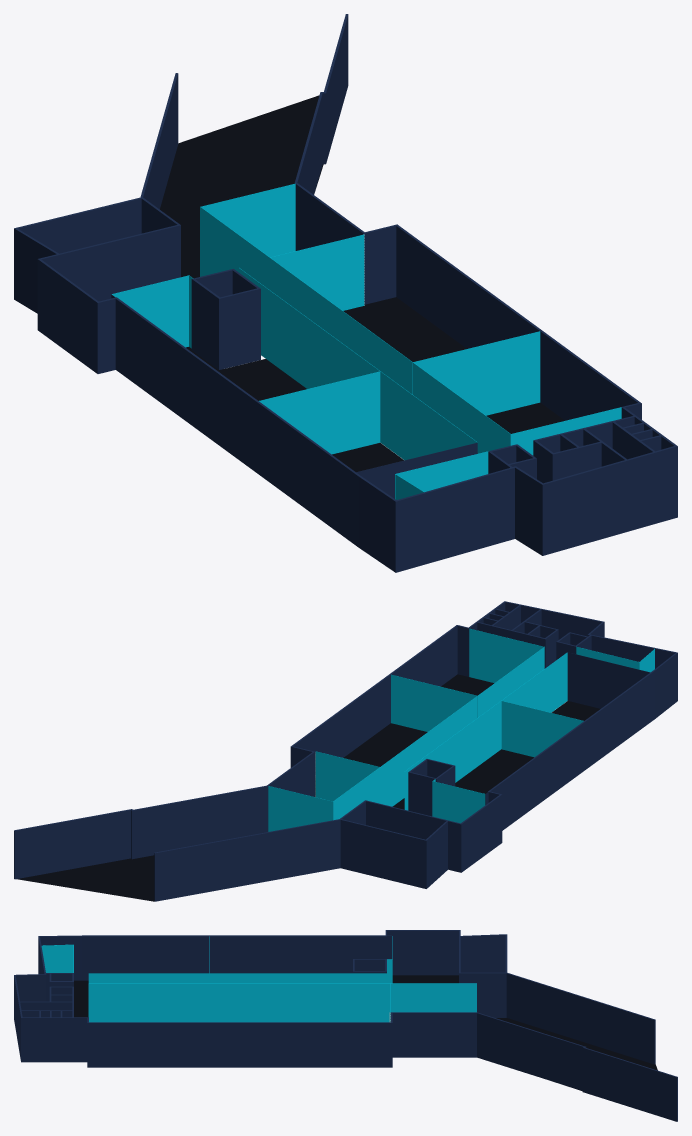
File: Test_NewbnbMODEL.glb
3 renders of one model, top to bottom at view 1: azimuth 30°, elevation 25°; view 2: azimuth 150°, elevation 25°; view 3: azimuth 270°, elevation 25°, orthographic. The views are drawn at different scales.
Visible parts, largest first — view 1: Component1, Component87_1, Mesh20.002, Component110_1, Component114_1, Component91_1, Component93_1, Model, Component120_1, Component74_1, Component113_1, Component73_1 (+23 smaller); view 2: Component76_1, Component1, Component83_1, Component87_1, Component79_1, Component110_1, Component114_1, Component72_1, Model, Mesh20.002, Component120_1, Component112_1 (+17 smaller); view 3: Component110_1, Component87_1, Component1, Component76_1, Component83_1, Component79_1, Component84_1, Component114_1, Component73_1, Component90_1, Component77_1, Component75_1 (+10 smaller).
Part boxes in pixels (x1,y1,x2,y2): Component1: [115, 297, 359, 546]; Component87_1: [396, 225, 641, 420]; Mesh20.002: [160, 95, 323, 277]; Component110_1: [200, 207, 511, 453]; Component114_1: [238, 267, 477, 460]; Component91_1: [541, 446, 675, 555]; Component93_1: [394, 467, 514, 572]; Model: [186, 297, 466, 472]; Component120_1: [412, 331, 540, 415]; Component74_1: [40, 224, 180, 301]; Component113_1: [259, 371, 380, 454]; Component73_1: [37, 258, 98, 372]; Component76_1: [154, 819, 340, 901]; Component1: [488, 670, 654, 830]; Component83_1: [133, 785, 269, 858]; Component87_1: [292, 625, 457, 778]; Component79_1: [14, 809, 130, 879]; Component110_1: [333, 647, 544, 820]; Component114_1: [404, 652, 567, 810]; Component72_1: [340, 819, 427, 888]; Model: [315, 701, 600, 804]; Mesh20.002: [17, 855, 154, 901]; Component120_1: [391, 674, 477, 731]; Component112_1: [567, 652, 650, 708]; Component110_1: [89, 983, 476, 1022]; Component87_1: [87, 1022, 390, 1067]; Component1: [82, 935, 386, 980]; Component76_1: [506, 973, 655, 1064]; Component83_1: [475, 1012, 584, 1090]; Component79_1: [584, 1047, 677, 1121]; Component84_1: [391, 1012, 476, 1057]; Component114_1: [88, 973, 386, 983]; Component73_1: [387, 930, 460, 975]; Component90_1: [21, 1017, 87, 1062]; Component77_1: [460, 934, 505, 972]; Component75_1: [460, 972, 506, 1017].
Bounding box in the file's own units: 6.35 × 0.8924 × 12.07.
Materials: 2 (2 with a texture image).
